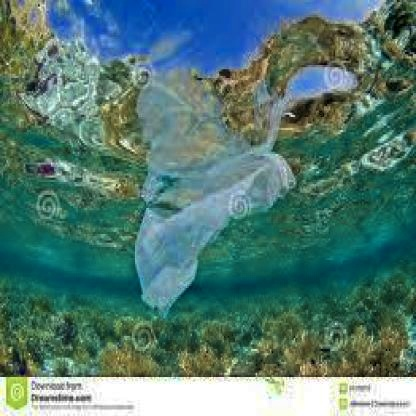pbag: (133, 154, 297, 320)
